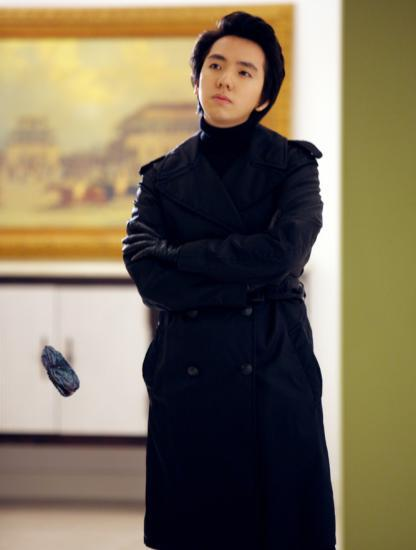Dates: (32, 342, 89, 399)
